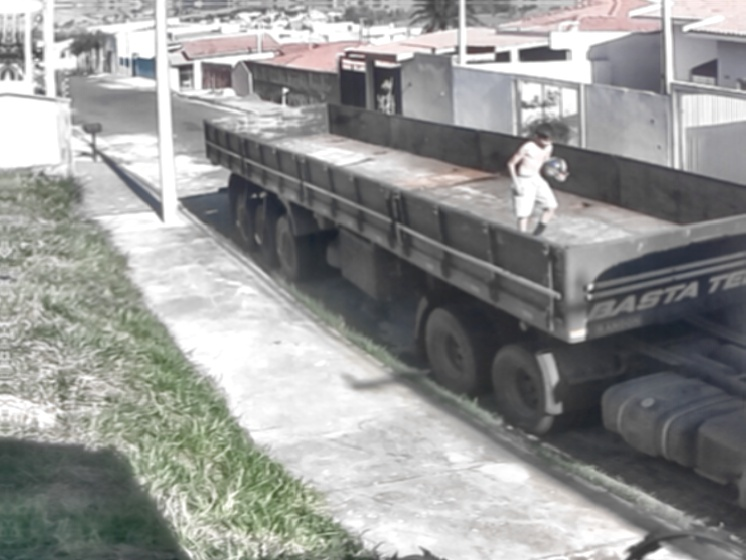person: (504, 120, 568, 242)
